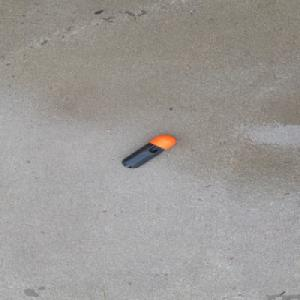PlasticPart: (120, 134, 176, 168)
